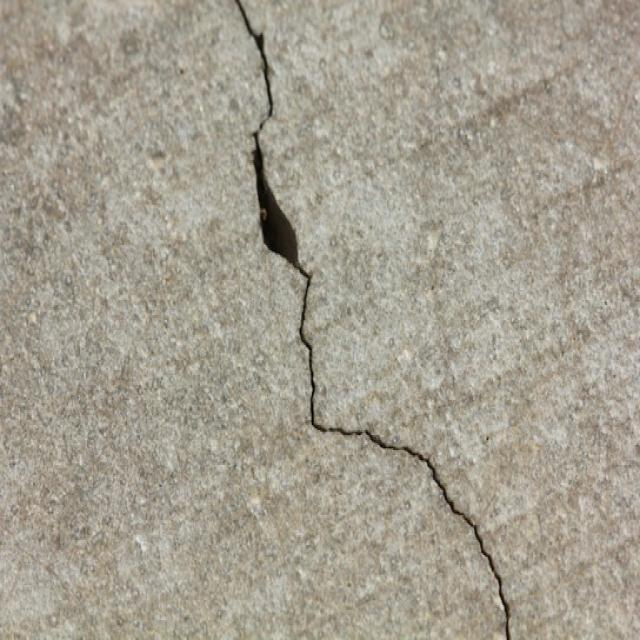Longitudinal: (208, 0, 521, 640)
